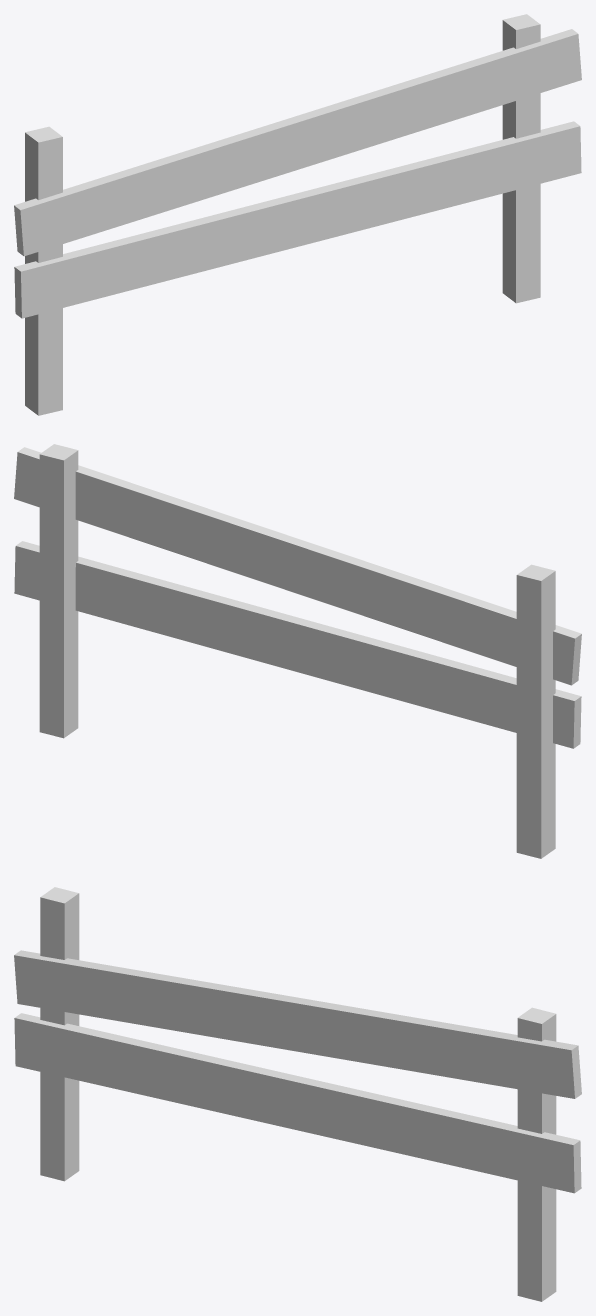
The model's file is fence_008.glb.
3 views of the same model, one above another, from view 1: azimuth 30°, elevation 25°; view 2: azimuth 150°, elevation 25°; view 3: azimuth 330°, elevation 25° (orthographic).
Visible parts, largest first — view 1: fence_008.033; view 2: fence_008.033; view 3: fence_008.033.
Boxes of the visible parts, x1,y1,x2,y2 form: fence_008.033: (14,14,581,415); fence_008.033: (14,444,581,858); fence_008.033: (14,887,581,1301).
Size of the model in its own units: 2.35 by 1.1 by 0.1664.
Materials: 1 (1 with a texture image).
